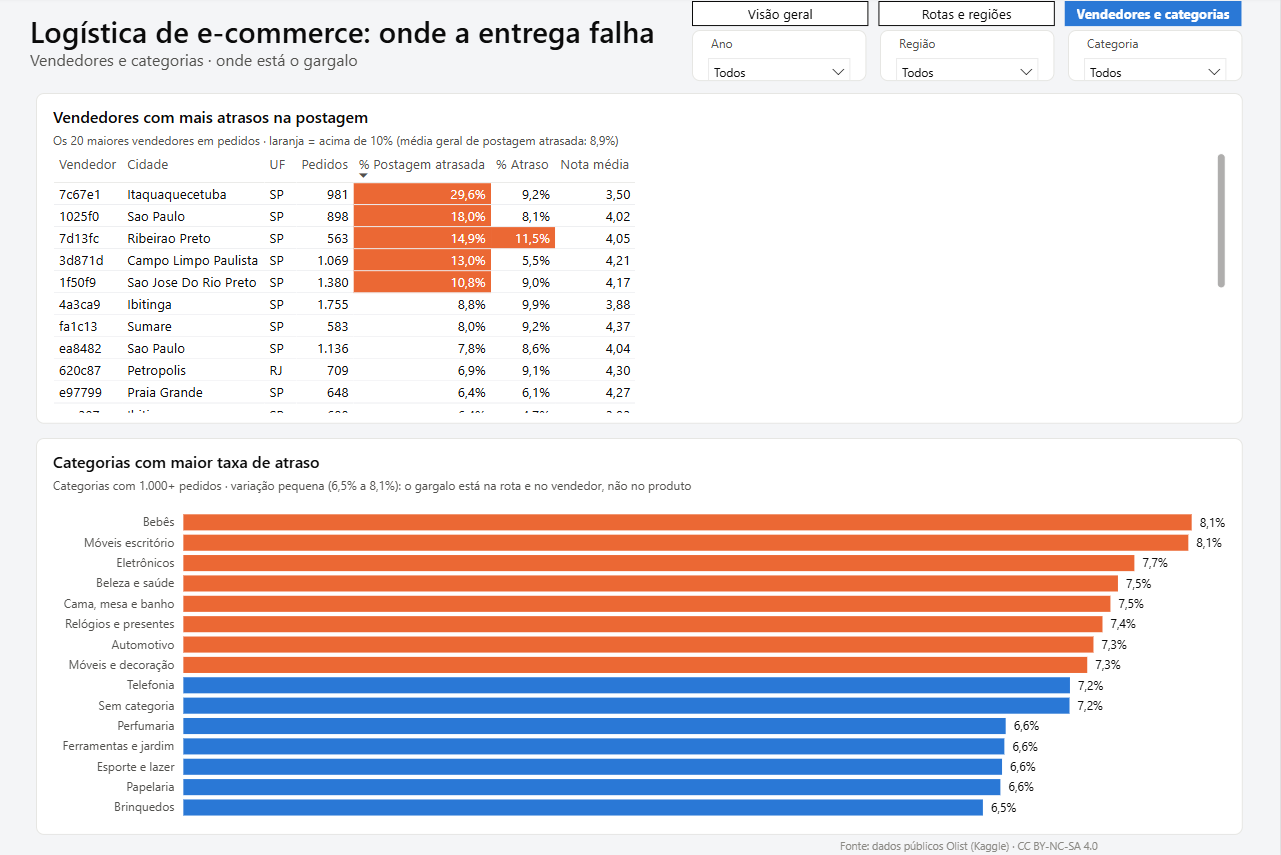

What the dashboard file says about the page in this screenshot:
{"tool":"powerbi","page":{"name":"Vendedores e categorias","canvas":[1920,1080],"ordinal":2},"visuals":[{"type":"textbox","box":[30.3,46.2,720.2,44.6],"z":0},{"type":"textbox","box":[30.7,103.3,751.9,38.7],"z":1000},{"type":"tableEx","title":"Vendedores com mais atrasos na postagem","fields":{"Values":["dim_vendedor.Vendedor","dim_vendedor.cidade_vendedor","dim_vendedor.uf_vendedor","_Medidas.Pedidos","_Medidas.% Postagem Atrasada","_Medidas.% Atraso","_Medidas.Nota Média"]},"box":[29,154.9,808.3,472.7],"z":2000},{"type":"actionButton","box":[0,0,100,40],"z":3000},{"type":"barChart","title":"Categorias com maior taxa de atraso","fields":{"Category":["dim_categoria.categoria"],"Y":["_Medidas.% Atraso"]},"box":[12.9,627.6,1850.6,451],"z":4000}]}

Visuals, with their boxes on the page's 1920x1080 design canvas (x1, y1, x2, y2). These are canvas units, not pixel positions in the 1281x855 screenshot, which may show the page scaled, cropped or inside an application window:
textbox: 30, 46, 750, 91
textbox: 31, 103, 783, 142
"Vendedores com mais atrasos na postagem" tableEx: 29, 155, 837, 628
actionButton: 0, 0, 100, 40
"Categorias com maior taxa de atraso" barChart: 13, 628, 1864, 1079
